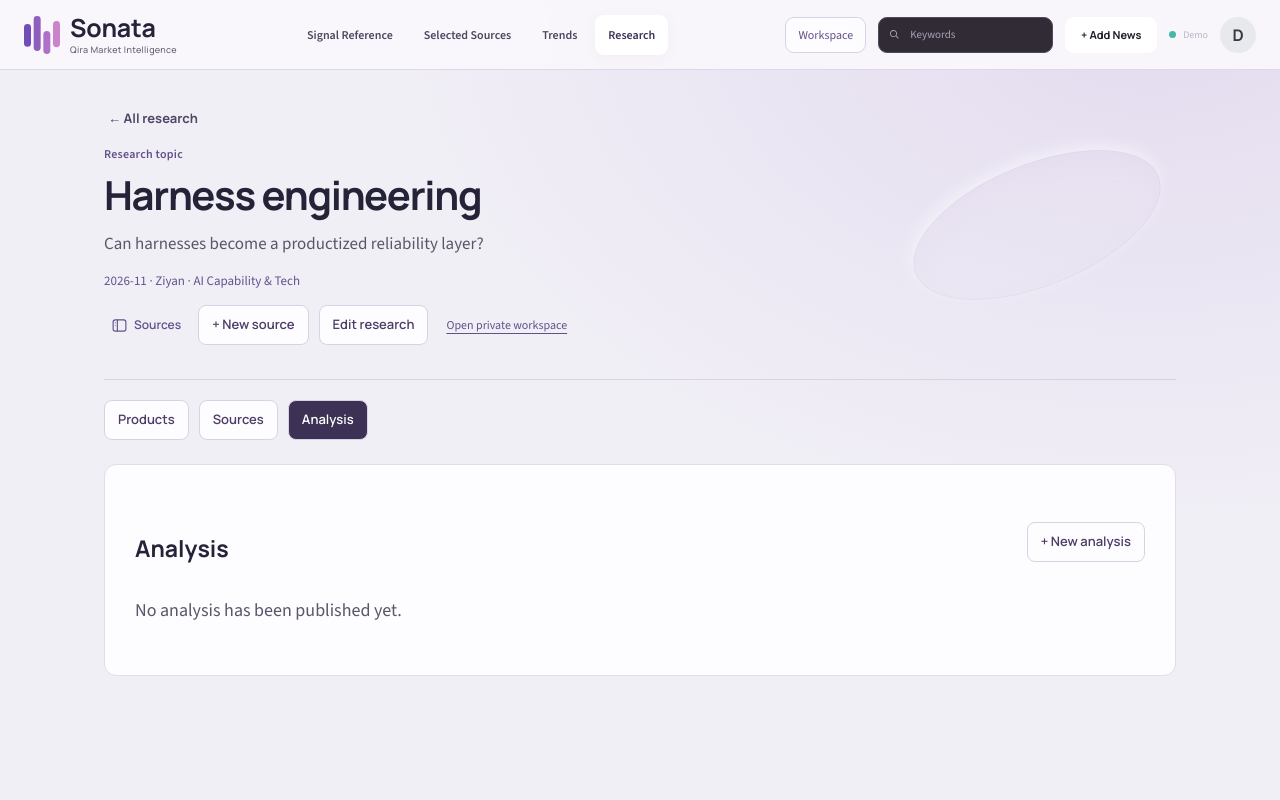
Scenario: adds and edits a name-and-description product within a research topic
Click the button "Products" at (146, 420), box left=104, top=400, right=189, bottom=440
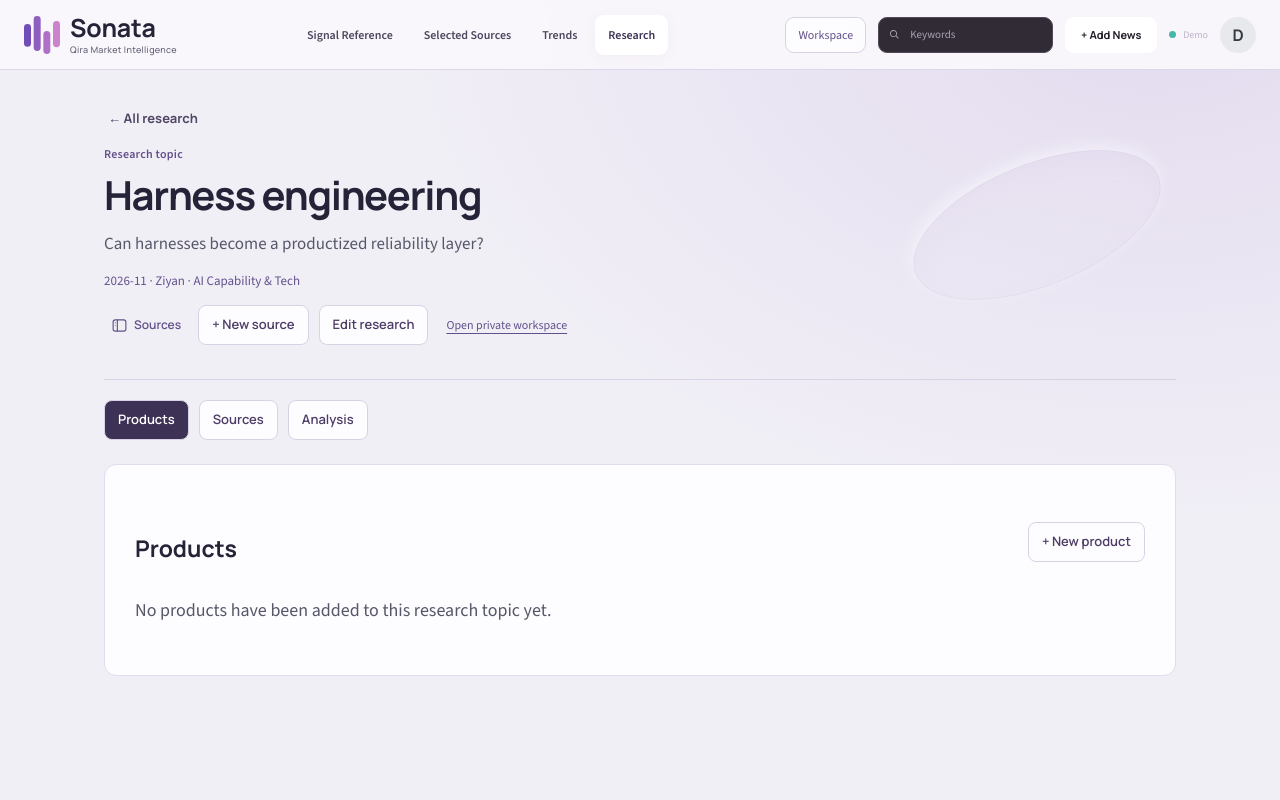
Click the button "+ New product" at (1086, 542), box left=1028, top=522, right=1145, bottom=562
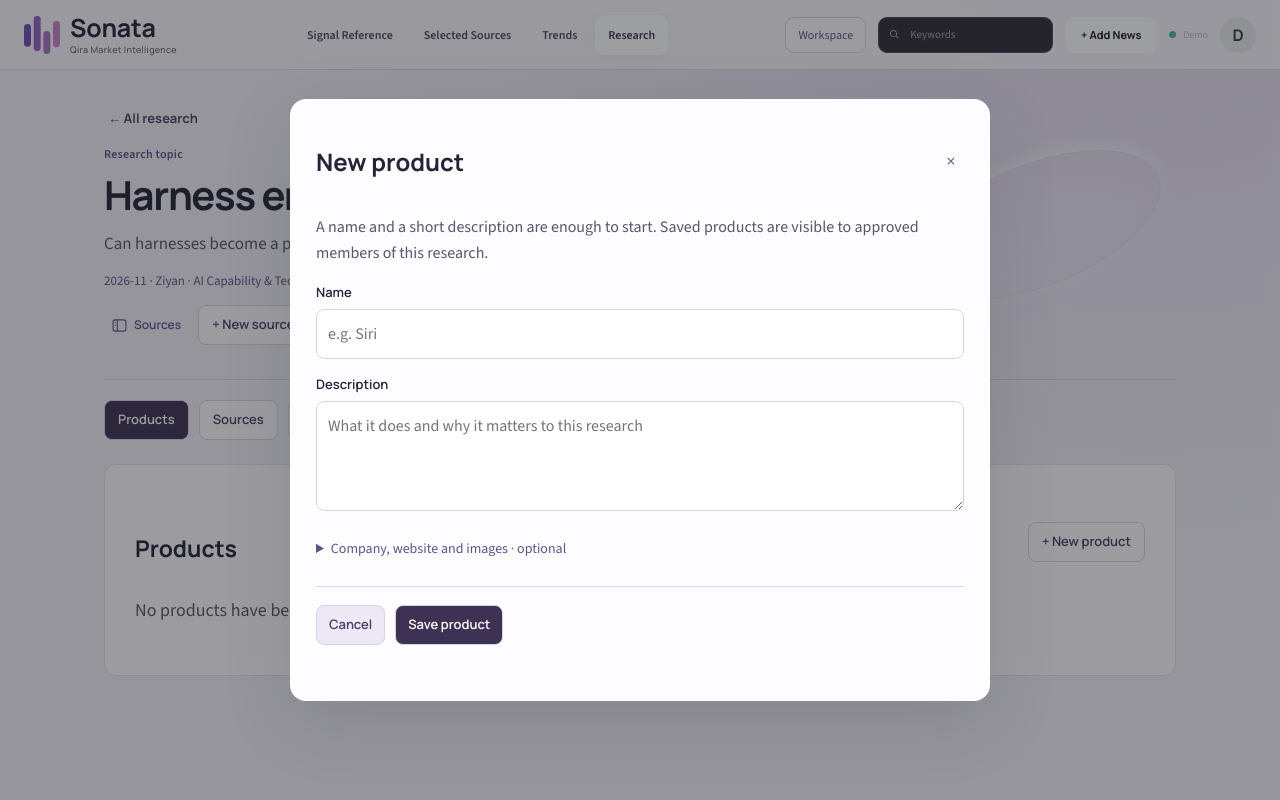
Type "Siri" into the field labelled "Name" at (640, 334), box left=316, top=309, right=964, bottom=359
Type "An assistant for Apple devices." into the text box labelled "Description" at (640, 456), box left=316, top=401, right=964, bottom=511
Click the button "Save product" at (449, 625), box left=395, top=605, right=503, bottom=645
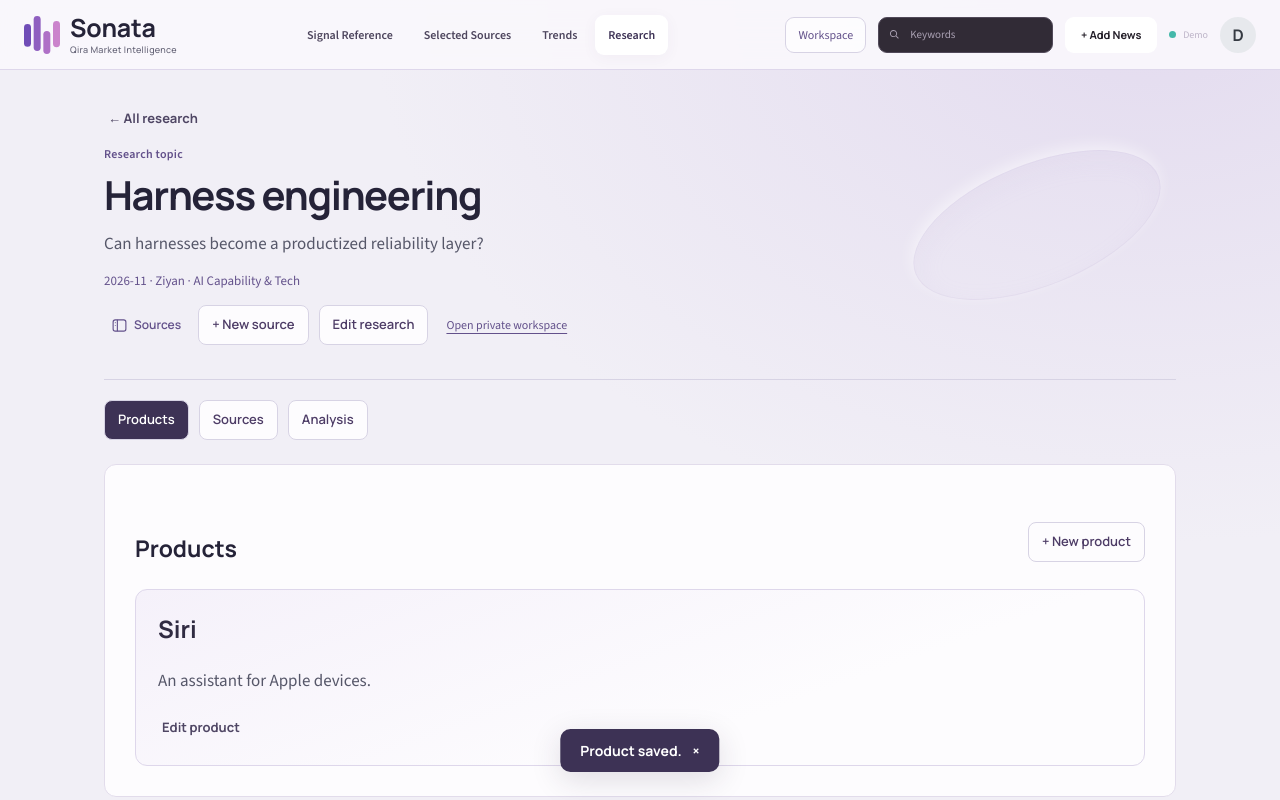
Now the heading "Siri" is shown, box left=158, top=612, right=197, bottom=645
Click the button "Edit product" at (201, 727), box left=158, top=711, right=244, bottom=743
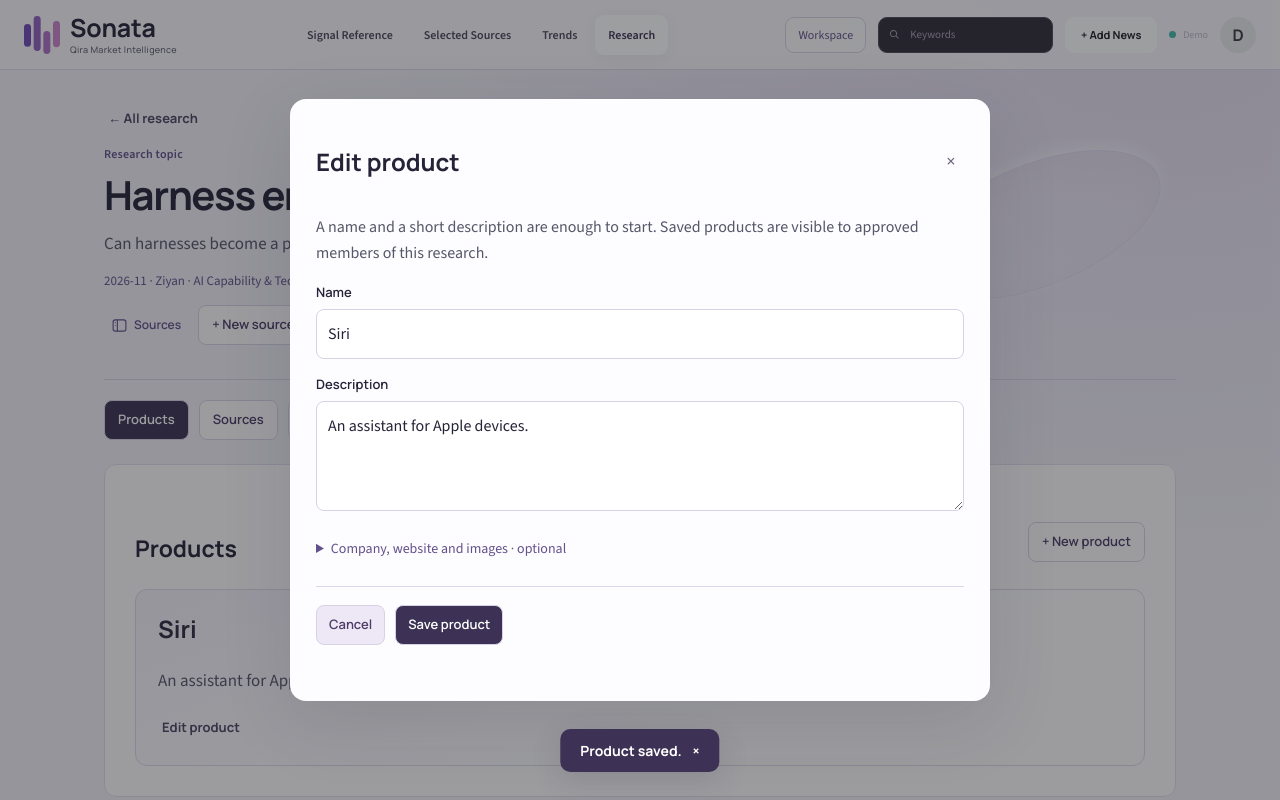
Now the text box labelled "Description" holds "An assistant for Apple devices."
Replace the text in the text box labelled "Description" with "Updated description." at (640, 456), box left=316, top=401, right=964, bottom=511
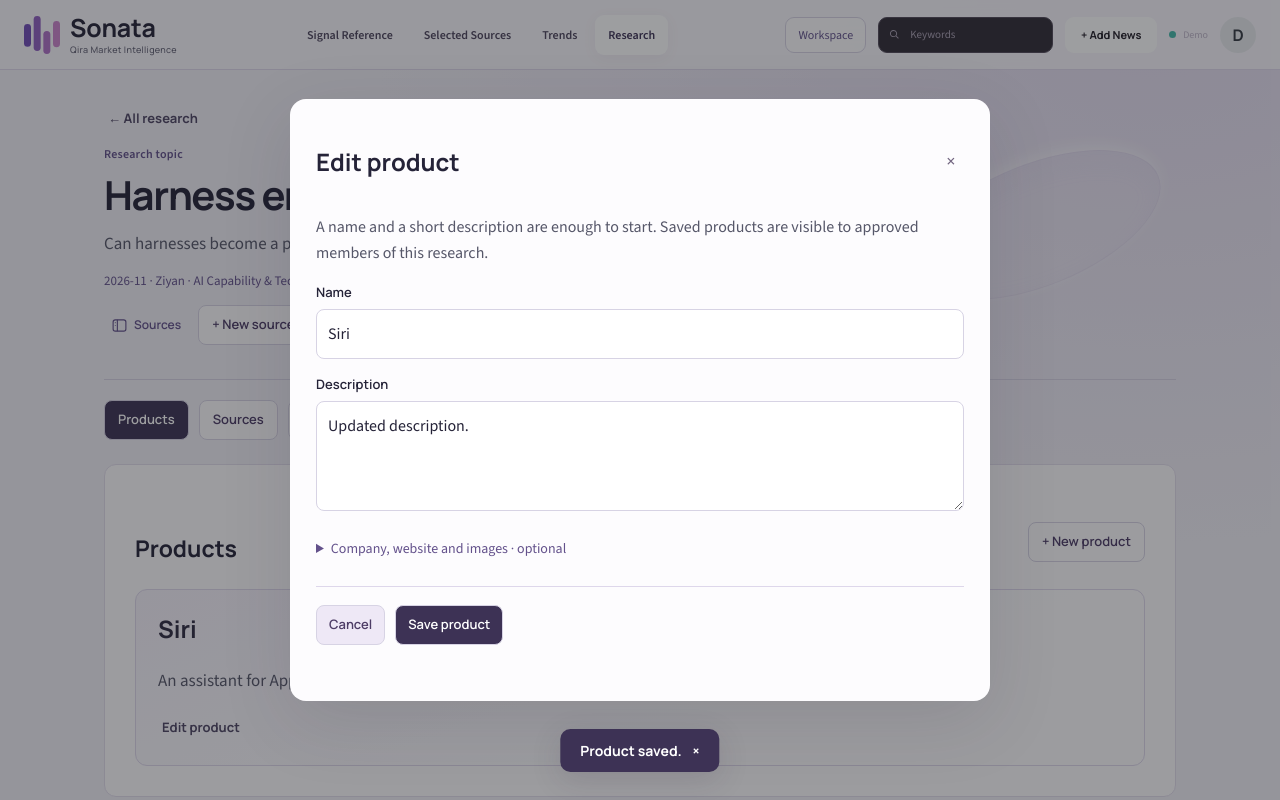
Click the button "Save product" at (449, 625), box left=395, top=605, right=503, bottom=645
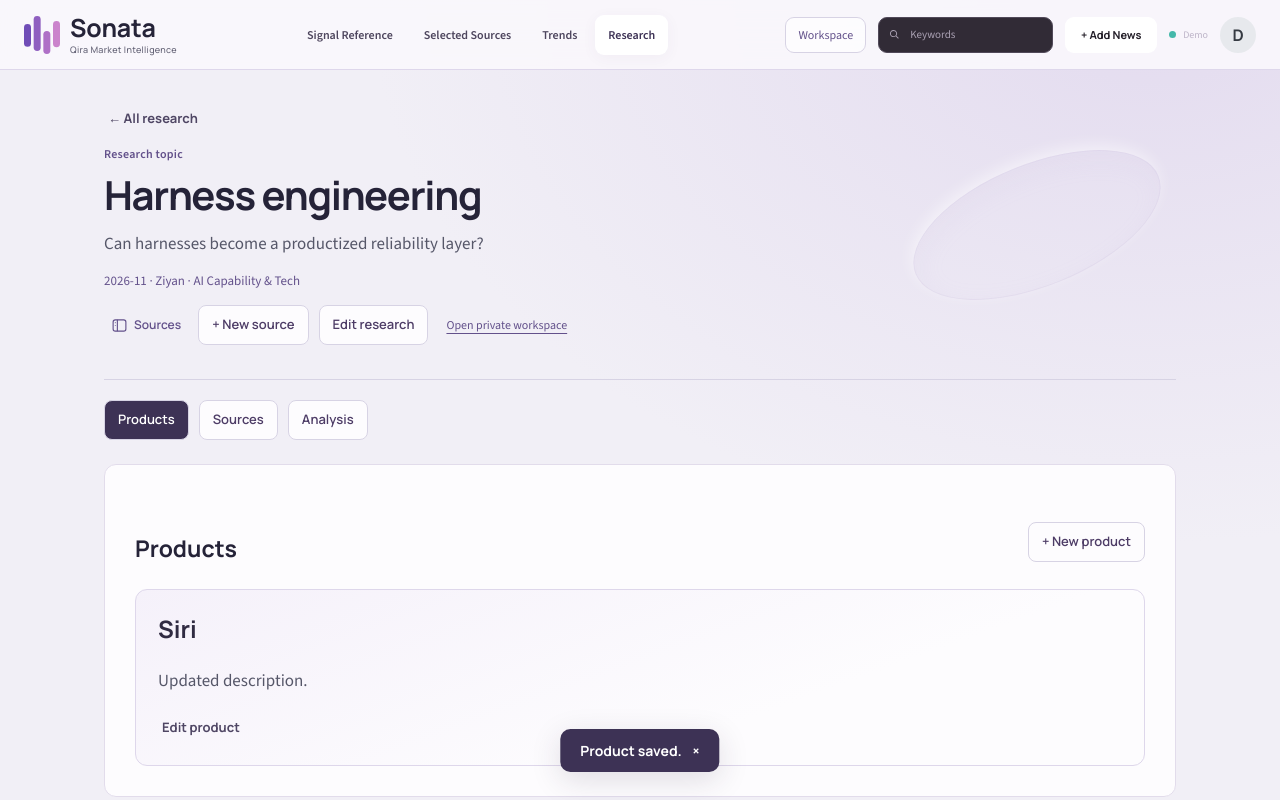
Now the number of headings "Siri" is 1, box left=158, top=612, right=197, bottom=645
Now the text "Updated description." is shown, box left=158, top=669, right=308, bottom=692
